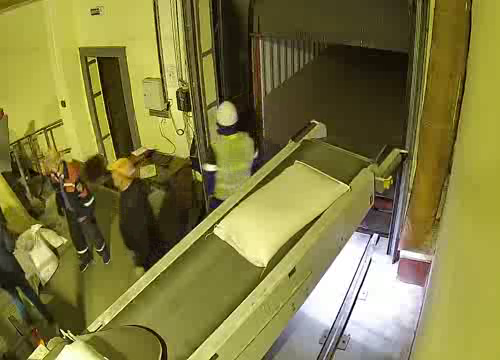bag: (212, 160, 352, 268), (45, 332, 111, 360)
